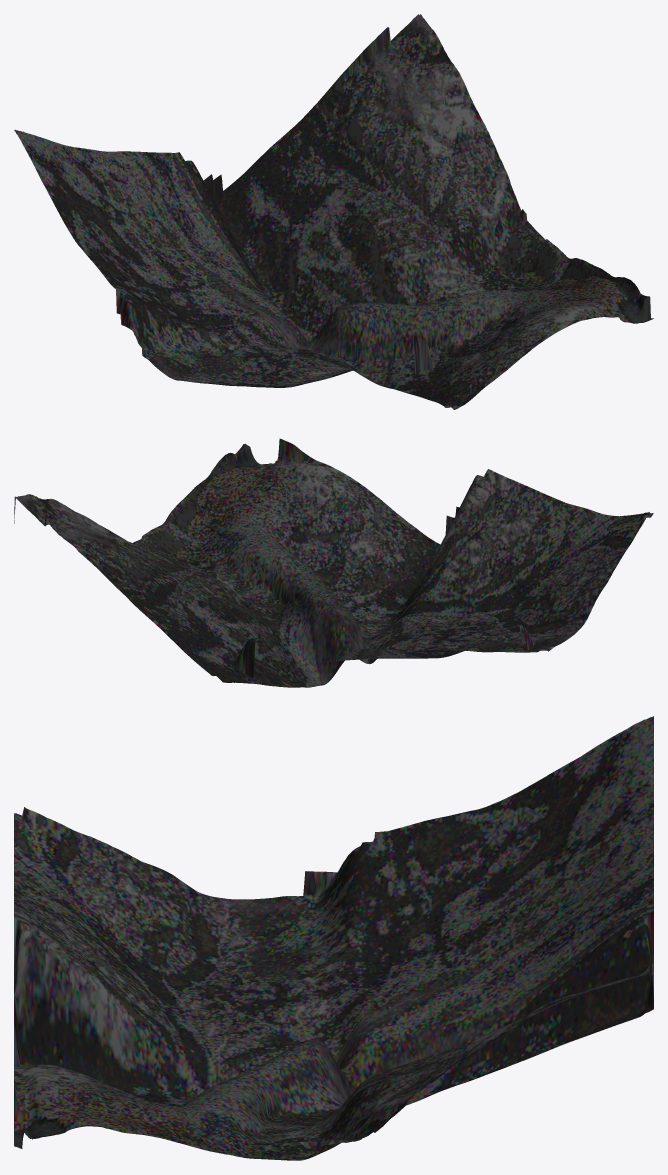
Rendered from dsm_0ecdf7fa1a_mesh.glb.
3 renders of one model, top to bottom at view 1: azimuth 30°, elevation 25°; view 2: azimuth 150°, elevation 25°; view 3: azimuth 270°, elevation 25°, orthographic. The views are drawn at different scales.
Visible parts, largest first — view 1: geometry_0; view 2: geometry_0; view 3: geometry_0.
Part boxes in pixels (x1=…): geometry_0: x1=14, y1=14, x2=653, y2=409; geometry_0: x1=14, y1=438, x2=653, y2=687; geometry_0: x1=14, y1=716, x2=653, y2=1160.
Size of the model in its own units: 2 by 1 by 2.
